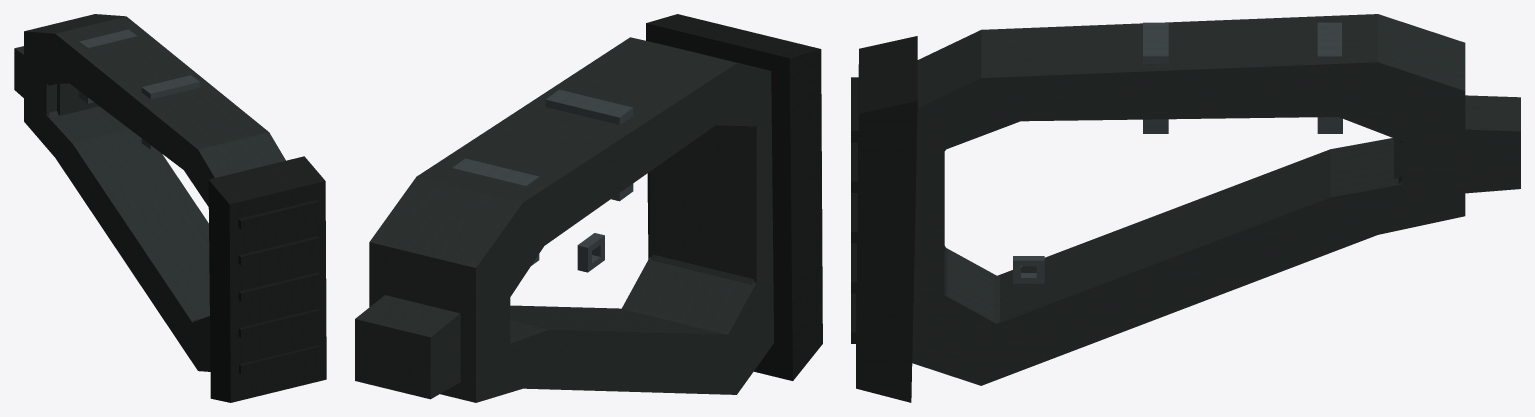
Rendered from ak12_stock.glb.
The picture shows the model from 3 angles, left to right: view 1: azimuth 30°, elevation 25°; view 2: azimuth 150°, elevation 25°; view 3: azimuth 270°, elevation 25°; orthographic projection. The views are drawn at different scales.
Parts seen in each view (by area): view 1: ak12_stock_open_stock.001, ak12_stock_open_stock, ak12_stock_buttpad, ak12_stock_buttpad.001, ak12_stock_cheek_support; view 2: ak12_stock_open_stock, ak12_stock_open_stock.001, ak12_stock_buttpad, ak12_stock_buttpad.001, ak12_stock_cheek_support; view 3: ak12_stock_open_stock, ak12_stock_open_stock.001, ak12_stock_buttpad, ak12_stock_buttpad.001, ak12_stock_cheek_support.
Boxes of the visible parts, left/top/right/bottom form: ak12_stock_open_stock.001: left=14, top=14, right=285, bottom=371; ak12_stock_open_stock: left=15, top=14, right=283, bottom=369; ak12_stock_buttpad: left=208, top=159, right=324, bottom=400; ak12_stock_buttpad.001: left=208, top=156, right=326, bottom=402; ak12_stock_cheek_support: left=78, top=29, right=199, bottom=149; ak12_stock_open_stock: left=356, top=38, right=773, bottom=399; ak12_stock_open_stock.001: left=355, top=37, right=773, bottom=402; ak12_stock_buttpad: left=648, top=15, right=822, bottom=378; ak12_stock_buttpad.001: left=646, top=14, right=822, bottom=380; ak12_stock_cheek_support: left=452, top=89, right=633, bottom=272; ak12_stock_open_stock: left=912, top=15, right=1519, bottom=382; ak12_stock_open_stock.001: left=912, top=14, right=1520, bottom=385; ak12_stock_buttpad: left=851, top=37, right=916, bottom=387; ak12_stock_buttpad.001: left=856, top=36, right=917, bottom=402; ak12_stock_cheek_support: left=1013, top=22, right=1342, bottom=283.
Bounding box in the file's own units: 0.097 × 0.231 × 0.422.
Materials: 3 (3 with a texture image).
